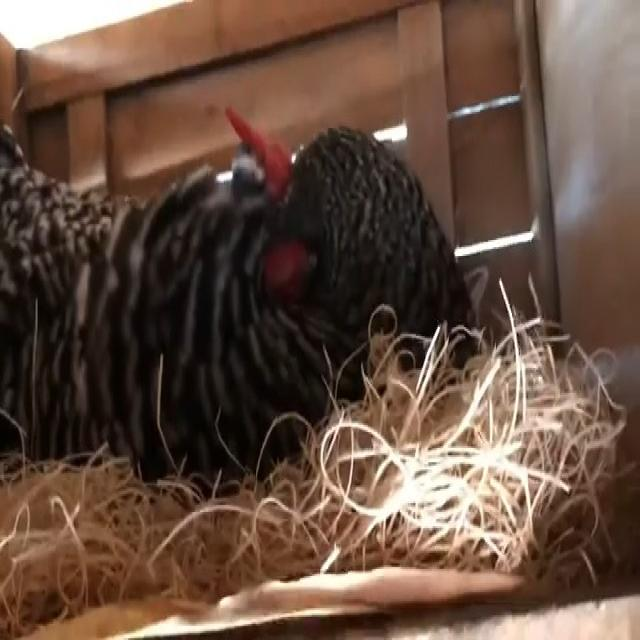sleeping chickens: (0, 62, 480, 516)
